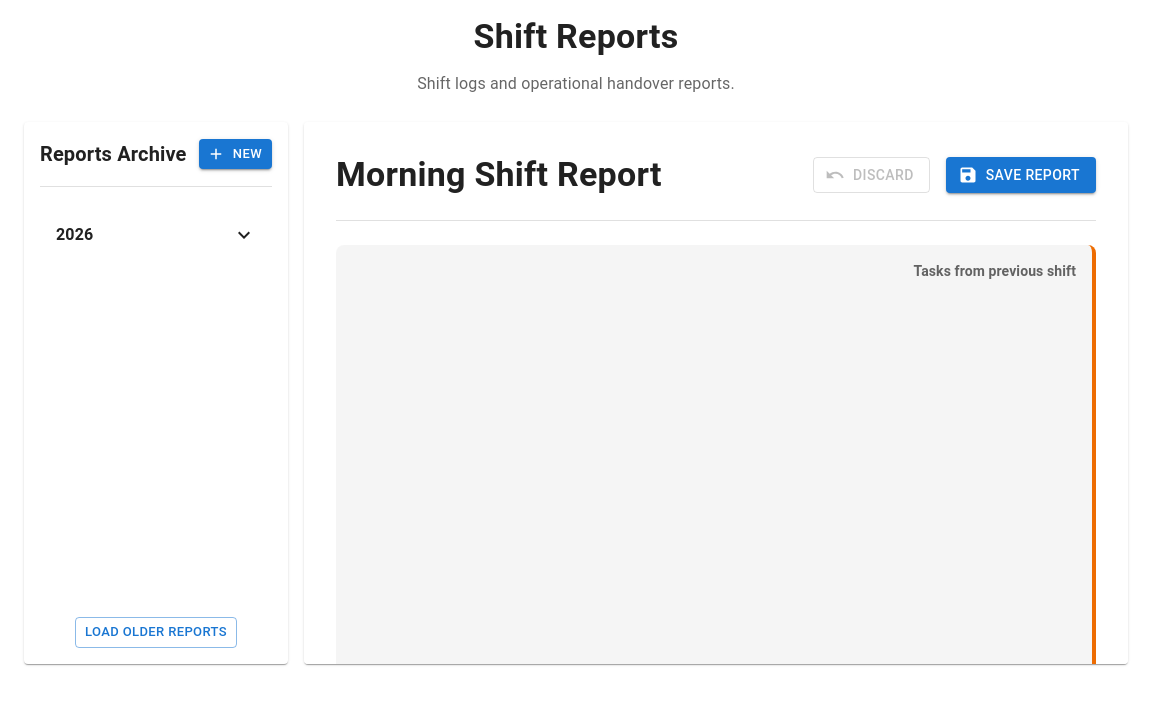
Test: ShiftReportPage - Background Polling State Shielding › cursor pagination › keeps the older reports already loaded when the background poll refreshes the newest page
The image size is (1152, 720).
Click the button "Load older reports". click: (156, 632)
box: [75, 617, 237, 648]
Wait 30000 ms
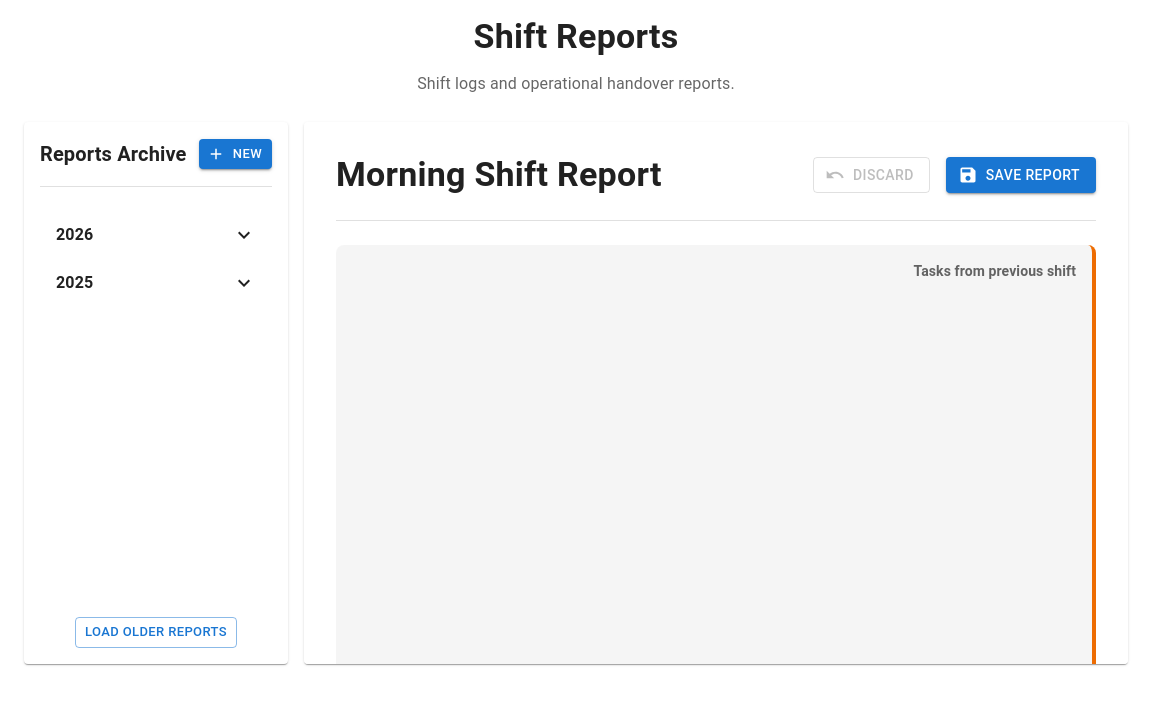
Expected: the text "2026" is shown, [56, 225, 93, 244]
Result: the text "2025" is shown at [56, 273, 93, 292]
